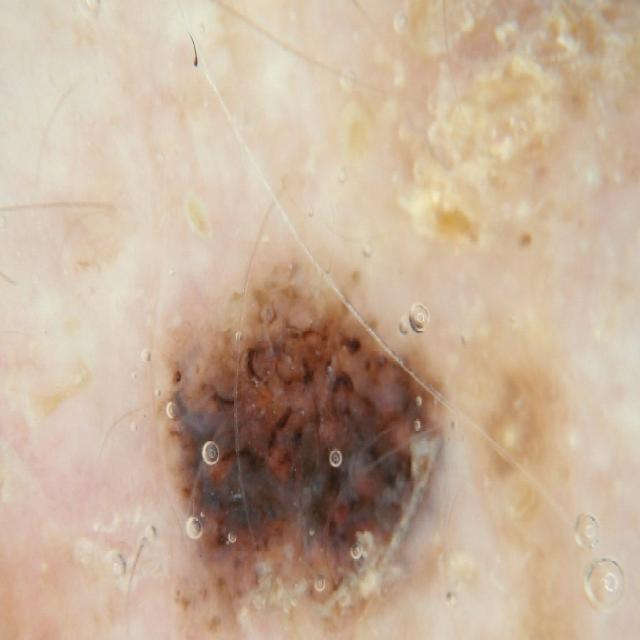Melanoma: (133, 270, 490, 600)
